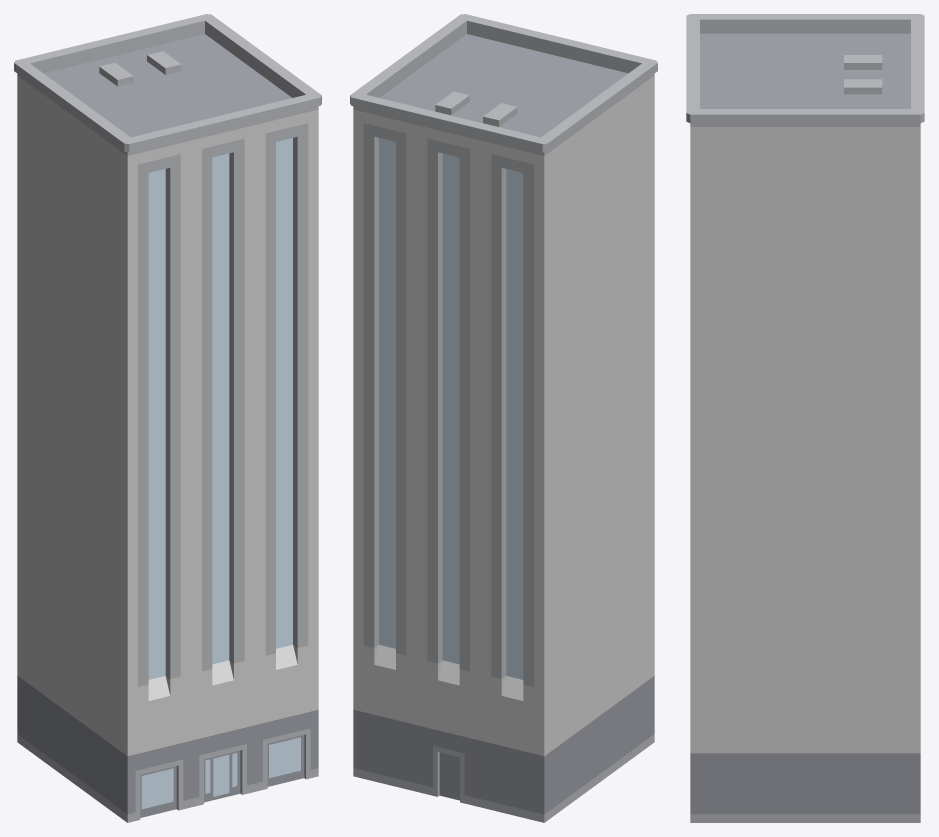
Rendered from skyscraperF.gltf.
3 views of the same model, side by side, from view 1: azimuth 30°, elevation 25°; view 2: azimuth 150°, elevation 25°; view 3: azimuth 270°, elevation 25° (orthographic). The views are drawn at different scales.
Parts seen in each view (by area): view 1: skyscraperF; view 2: skyscraperF; view 3: skyscraperF.
Part boxes in pixels (box(x1,y1,x2,y2)): skyscraperF: box(14, 14, 321, 822); skyscraperF: box(350, 14, 657, 822); skyscraperF: box(686, 14, 924, 822).
Size of the model in its own units: 1.24 by 4.08 by 1.24.
